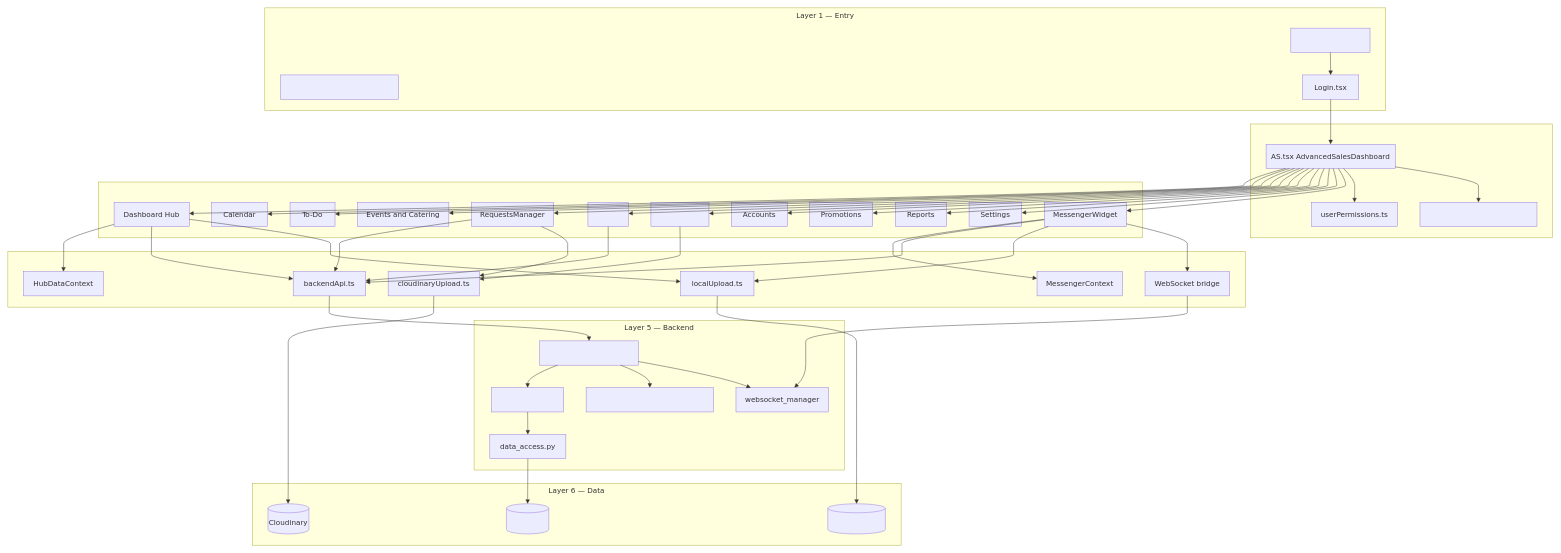
Image size: 1561x553. Some labels were removed from this diagram. Here are the shapes that lost their labels. From the top down, the box of each, then its label:
(1290, 28, 1370, 52): LandingPage.tsx
(280, 74, 398, 99): RequestFeedbackPublicPage
(1250, 124, 1553, 238): Layer 2 — App shell
(587, 202, 628, 227): CRM
(98, 182, 1142, 238): Layer 3 — Feature modules
(650, 202, 709, 227): Contracts
(1420, 202, 1537, 227): Themes Luxury Light Desert
(7, 251, 1245, 307): Layer 4 — Client services
(539, 340, 638, 365): main.py FastAPI :8000
(491, 387, 564, 412): 20 API routers
(586, 387, 713, 412): security auth_db dependencies
(506, 503, 549, 534): PostgreSQL
(827, 503, 885, 534): as-uploads-data
